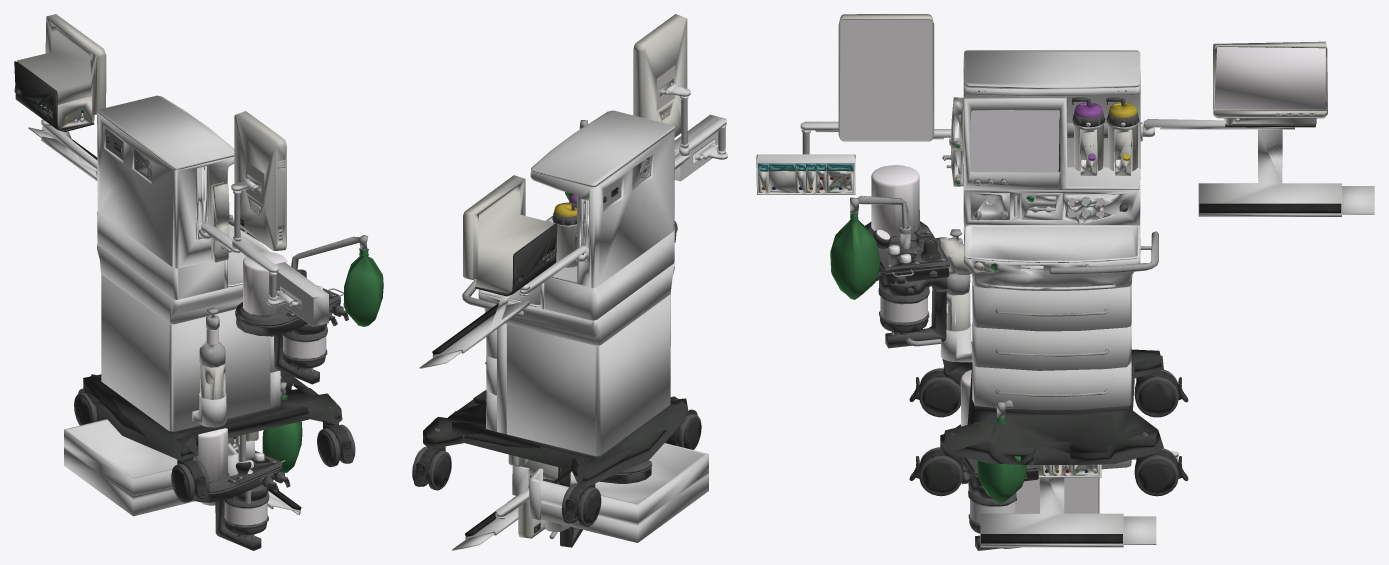
File: anesthesia_machine_a01.glb
3 views of the same model, side by side, from view 1: azimuth 30°, elevation 25°; view 2: azimuth 150°, elevation 25°; view 3: azimuth 270°, elevation 25° (orthographic). The views are drawn at different scales.
Visible parts, largest first — view 1: base_01_mesh_00, absorberCanister_01_mesh_00 (×2), screen_02_mesh_00, screen_01_mesh_00, absorberCanisterGlass_01_mesh_00 (×2), breathingSystemBag_01_mesh_00 (×2), drawer_01_mesh_00, drawer_03_mesh_00, extentionModule_01_mesh_00, drawer_02_mesh_00, oxygenCylinder_01_mesh_00, keyboardHolder_01_mesh_00 (×2) (+8 smaller); view 2: base_01_mesh_00, screen_02_mesh_00 (×2), screen_01_mesh_00 (×2), drawer_01_mesh_00, drawer_03_mesh_00 (×2), keyboardHolder_01_mesh_00 (×2), extentionModule_01_mesh_00 (×2), drawer_02_mesh_00 (×2), screenArm_02_mesh_00 (×2), absorberCanister_01_mesh_00, wheel_01_mesh_00, wheel_02_mesh_00 (+5 smaller); view 3: base_01_mesh_00, keyboardHolder_01_mesh_00 (×2), screenGlass_01_mesh_00 (×2), absorberCanister_01_mesh_00 (×2), screenGlass_02_mesh_00, baseGlass_01_mesh_00, drawer_01_mesh_00, drawer_02_mesh_00, drawer_03_mesh_00, breathingSystemBag_01_mesh_00 (×2), absorberCanisterGlass_01_mesh_00 (×2), extentionModule_01_mesh_00 (×2) (+8 smaller).
Boxes of the visible parts, x1,y1,x2,y2 form: base_01_mesh_00: (83,95,342,460); absorberCanister_01_mesh_00 (×2): (192,288,348,550); screen_02_mesh_00: (14,14,106,131); screen_01_mesh_00: (234,111,286,251); absorberCanisterGlass_01_mesh_00 (×2): (193,251,326,525); breathingSystemBag_01_mesh_00 (×2): (262,235,383,473); drawer_01_mesh_00: (64,419,239,516); drawer_03_mesh_00: (64,420,237,504); extentionModule_01_mesh_00: (269,262,328,326); drawer_02_mesh_00: (64,419,239,515); oxygenCylinder_01_mesh_00: (199,307,225,399); keyboardHolder_01_mesh_00 (×2): (28,119,301,514); base_01_mesh_00: (423,110,688,486); screen_02_mesh_00 (×2): (463,175,571,482); screen_01_mesh_00 (×2): (518,14,687,538); drawer_01_mesh_00: (528,443,708,542); drawer_03_mesh_00 (×2): (485,391,703,538); keyboardHolder_01_mesh_00 (×2): (419,283,530,550); extentionModule_01_mesh_00 (×2): (512,114,726,496); drawer_02_mesh_00 (×2): (485,355,706,526); screenArm_02_mesh_00 (×2): (495,245,584,519); absorberCanister_01_mesh_00: (549,460,651,547); wheel_01_mesh_00: (412,446,451,490); wheel_02_mesh_00: (561,483,601,526); base_01_mesh_00: (940,50,1163,465); keyboardHolder_01_mesh_00 (×2): (980,129,1374,547); screenGlass_01_mesh_00 (×2): (840,19,1098,513); absorberCanister_01_mesh_00 (×2): (865,221,1039,550); screenGlass_02_mesh_00: (1214,47,1326,109); baseGlass_01_mesh_00: (955,110,1120,217); drawer_01_mesh_00: (972,281,1131,331); drawer_02_mesh_00: (972,322,1131,370); drawer_03_mesh_00: (972,361,1131,410); breathingSystemBag_01_mesh_00 (×2): (830,196,1026,503); absorberCanisterGlass_01_mesh_00 (×2): (871,165,1015,523); extentionModule_01_mesh_00 (×2): (756,154,1101,477).
Size of the model in its own units: 0.952 by 2.07 by 2.26.
Materials: 17 (13 with a texture image).
